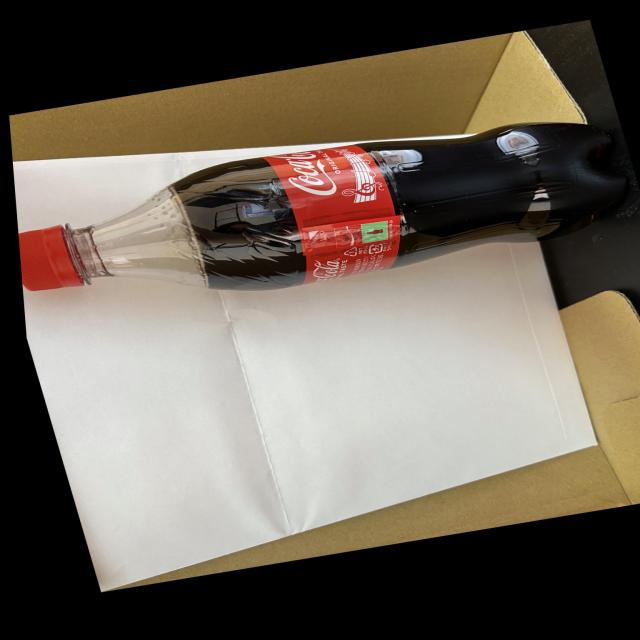high: (19, 123, 626, 292)
